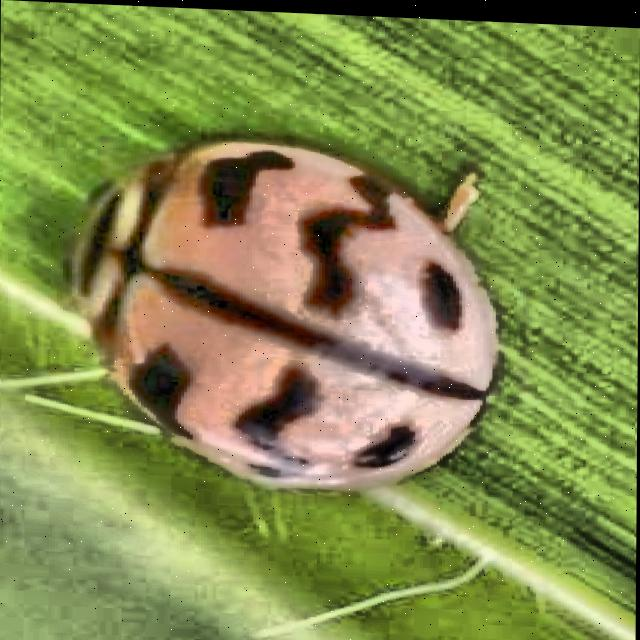Asian-Lady-beetle: (0, 85, 576, 539)
